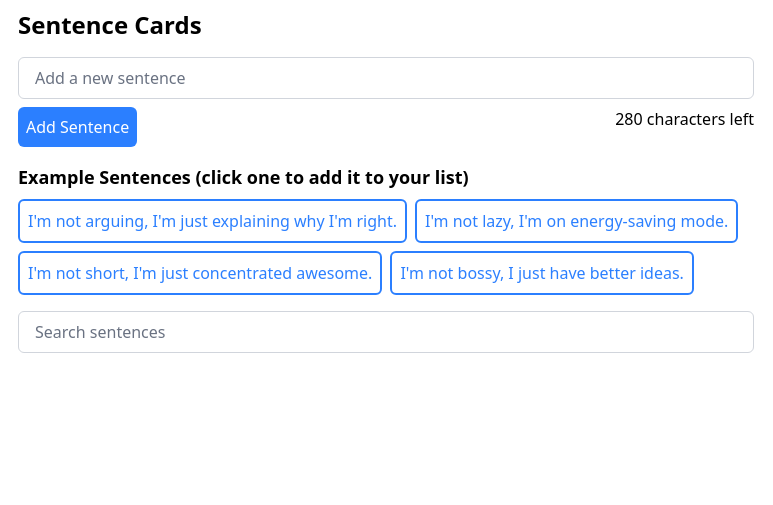
Test: SentenceCards › shows error for duplicate sentence
This screenshot has width=773, height=505.
Type "Test sentence" into the field labelled "Add a new sentence" at [386, 78], box [18,57,754,99]
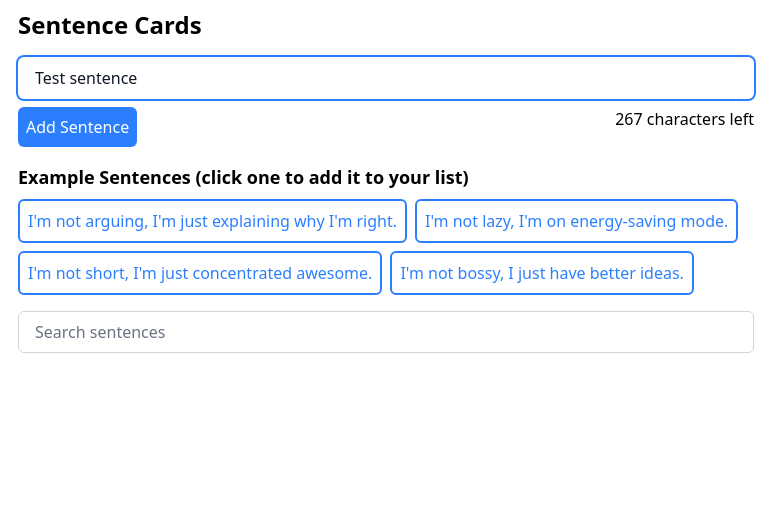
Click the button "Add Sentence" at [78, 127], box [18,107,137,147]
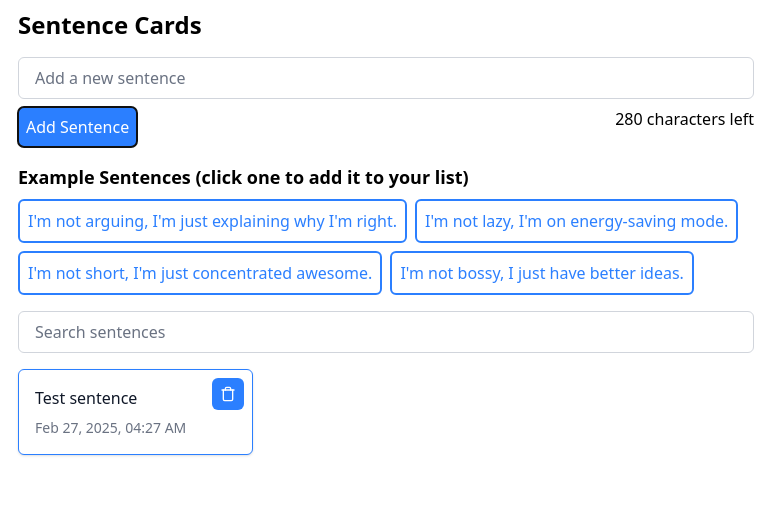
Type "Test sentence" into the field labelled "Add a new sentence" at [386, 78], box [18,57,754,99]
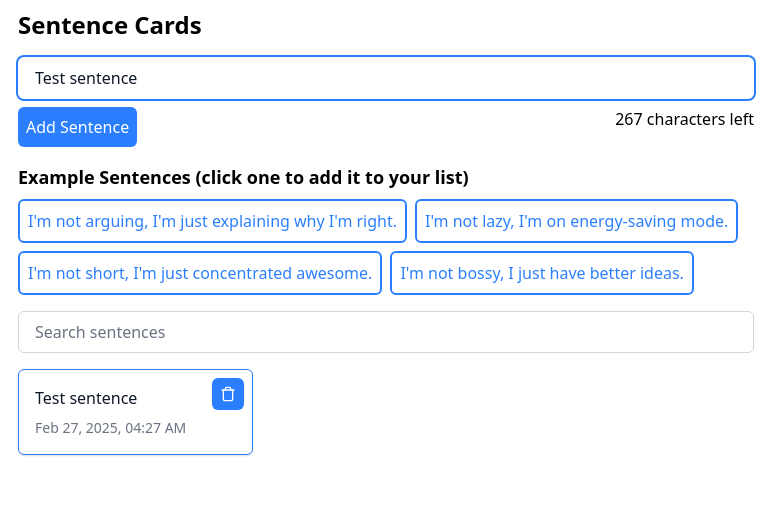
Click the button "Add Sentence" at [78, 127], box [18,107,137,147]
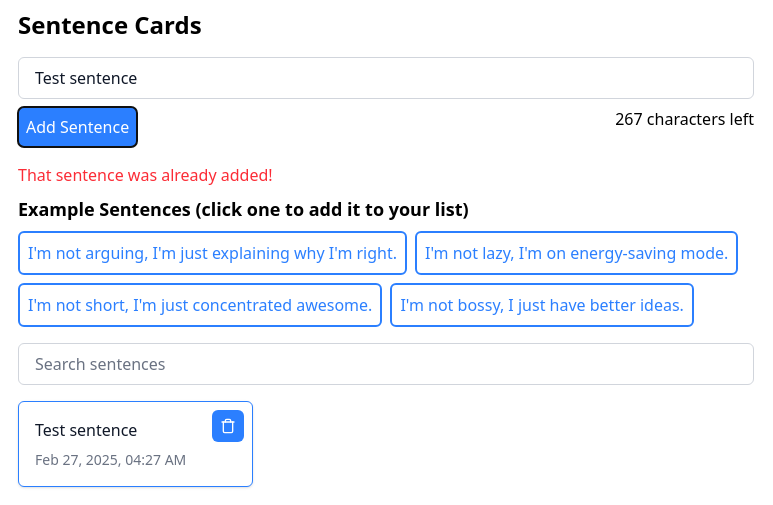
Check: the text "That sentence was already added!" is shown, box [18,164,273,186]
